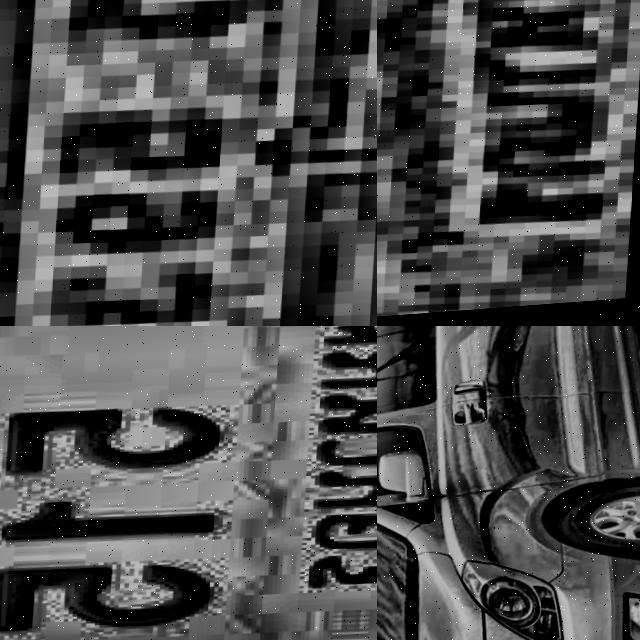license-plate: (0, 0, 377, 326), (0, 326, 377, 640), (377, 0, 640, 326)
